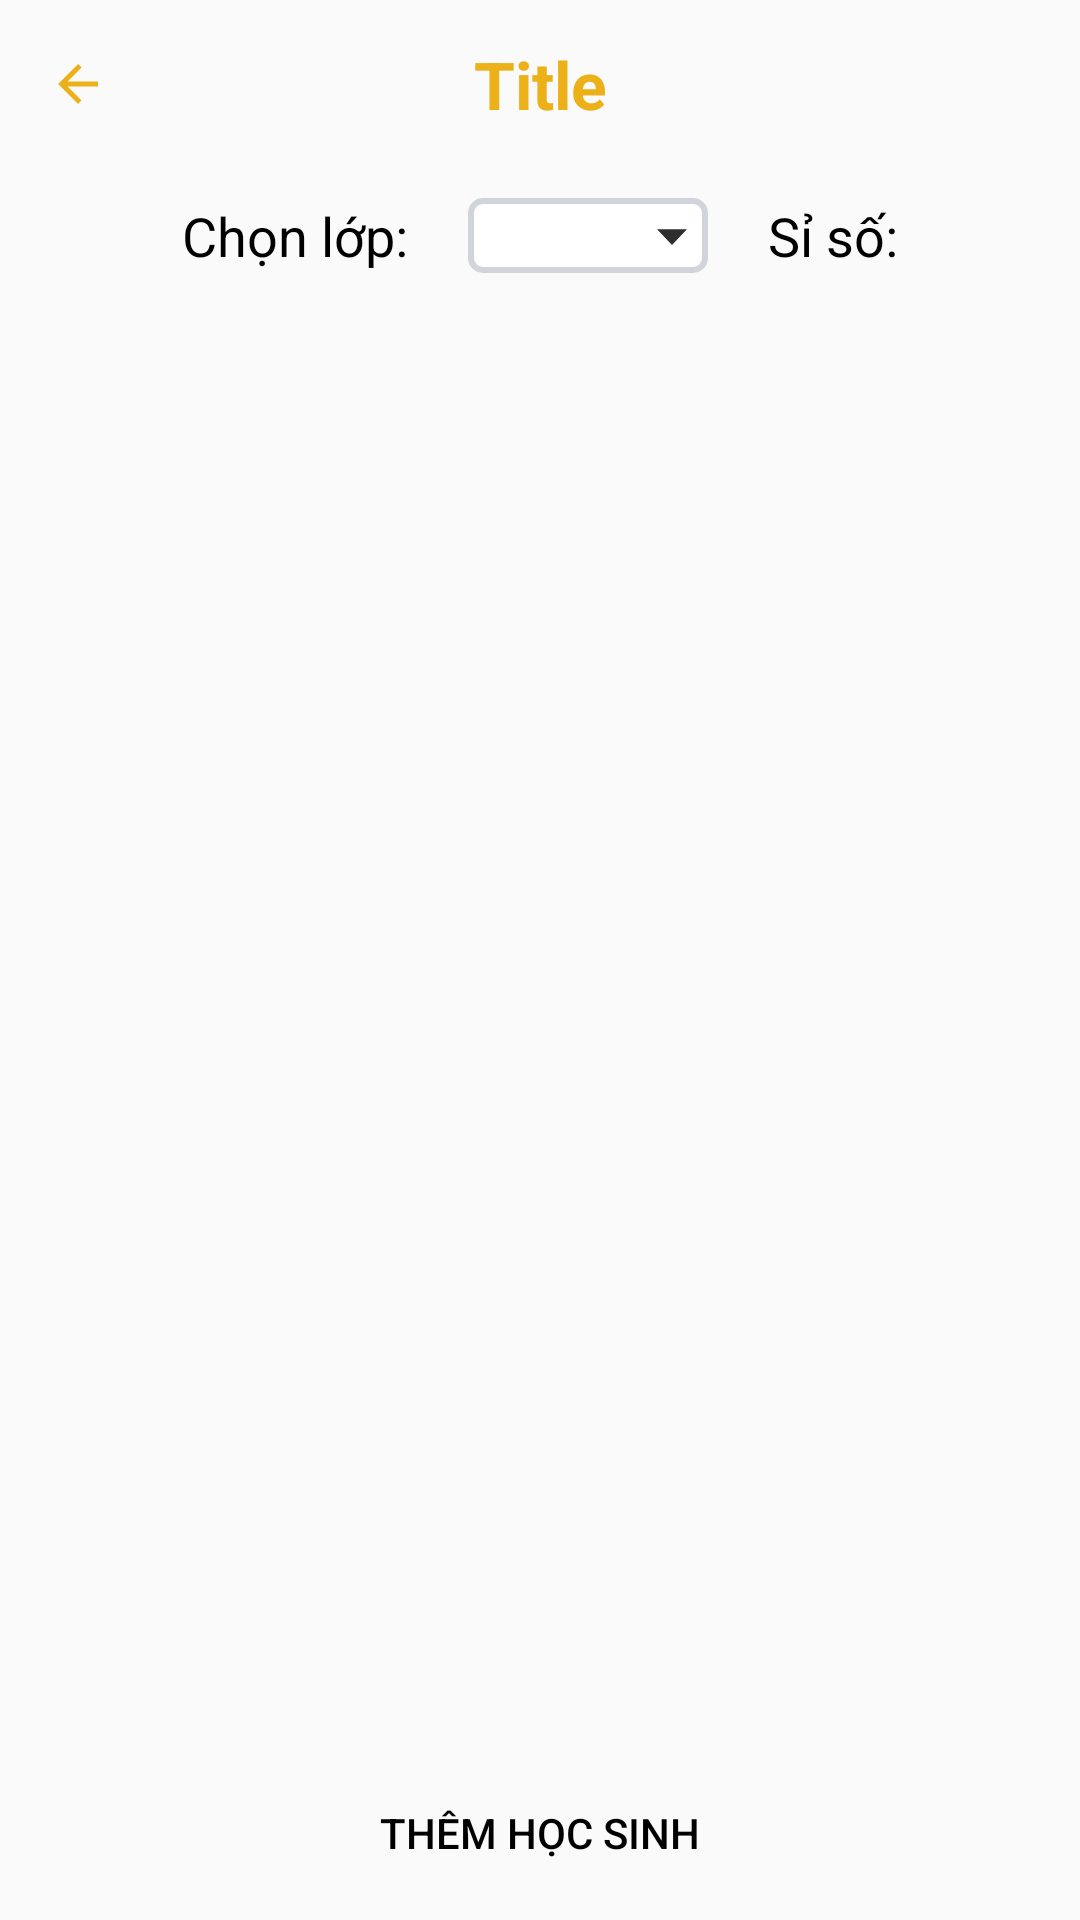

Icons on this 1080 × 1920 Android screen, each with the point to tap as [x,y]:
back: [78,84]
